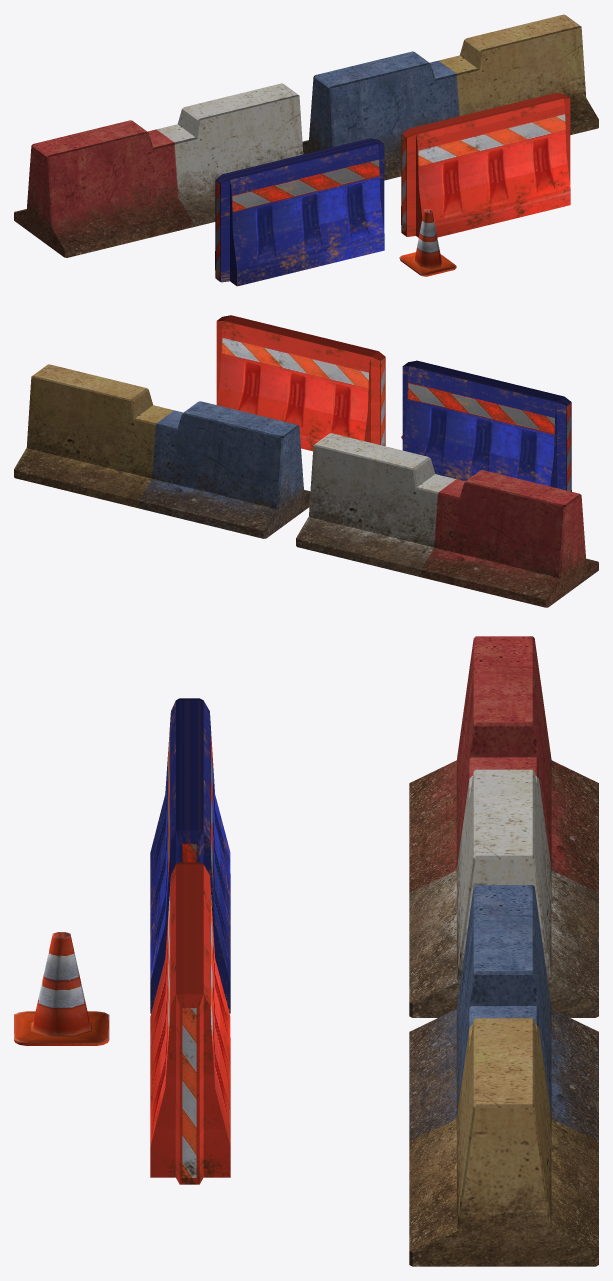
The model's file is models.obj.
3 views of the same model, one above another, from view 1: azimuth 30°, elevation 25°; view 2: azimuth 150°, elevation 25°; view 3: azimuth 270°, elevation 25° (orthographic). The views are drawn at different scales.
Visible parts, largest first — view 1: Model_4, Model_3, Model_1, Model_2, Model_5; view 2: Model_4, Model_3, Model_1, Model_2; view 3: Model_3, Model_4, Model_2, Model_1, Model_5.
Boxes of the visible parts, x1=… form: Model_4: x1=14, y1=83, x2=303, y2=257; Model_3: x1=302, y1=14, x2=598, y2=180; Model_1: x1=215, y1=138, x2=384, y2=286; Model_2: x1=401, y1=93, x2=570, y2=237; Model_5: x1=399, y1=209, x2=456, y2=276; Model_4: x1=296, y1=433, x2=598, y2=607; Model_3: x1=14, y1=364, x2=310, y2=538; Model_1: x1=402, y1=360, x2=571, y2=491; Model_2: x1=216, y1=315, x2=385, y2=451; Model_3: x1=409, y1=885, x2=598, y2=1266; Model_4: x1=409, y1=636, x2=598, y2=1017; Model_2: x1=150, y1=862, x2=230, y2=1184; Model_1: x1=150, y1=698, x2=230, y2=1013; Model_5: x1=14, y1=932, x2=109, y2=1045.
Size of the model in its own units: 147 by 26.83 by 77.37.
